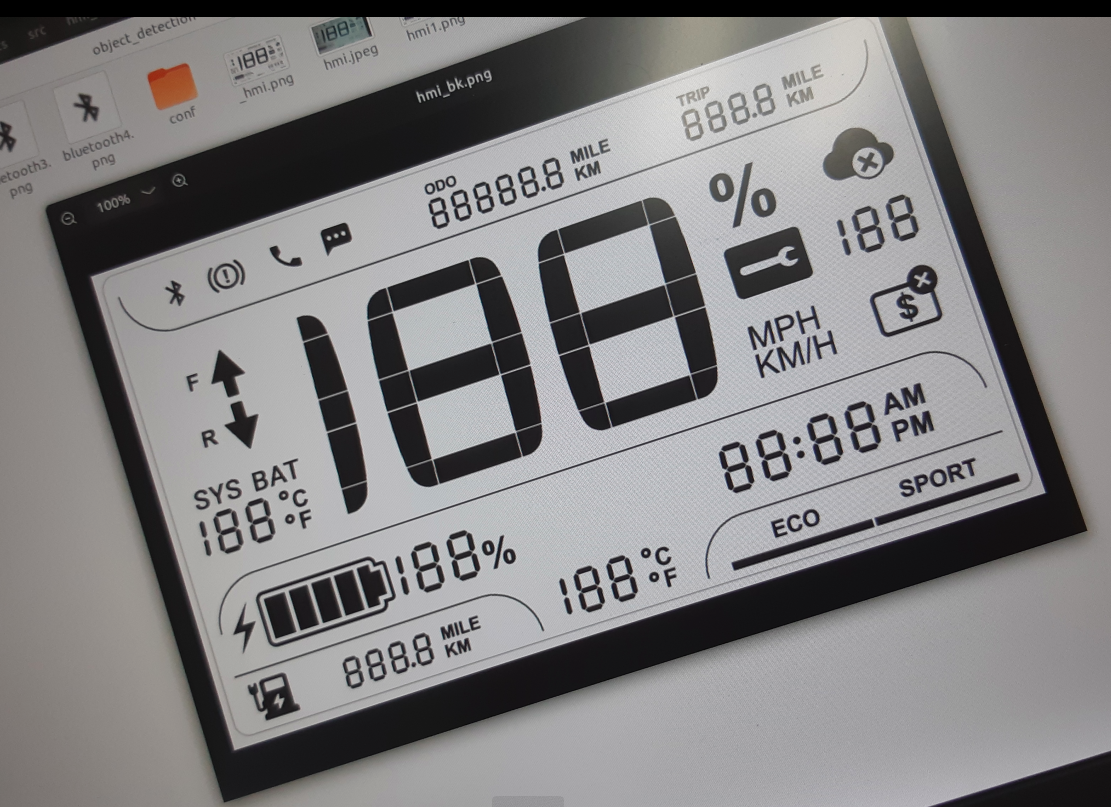bluetooth_on: (159, 276, 191, 314)
braking_on: (203, 256, 248, 296)
calling_on: (262, 237, 312, 277)
connection_lost: (815, 120, 900, 188)
error_code: (717, 222, 818, 302)
low_battery: (243, 671, 304, 723)
sms_on: (316, 217, 357, 261)
vin_id: (867, 261, 949, 340)
